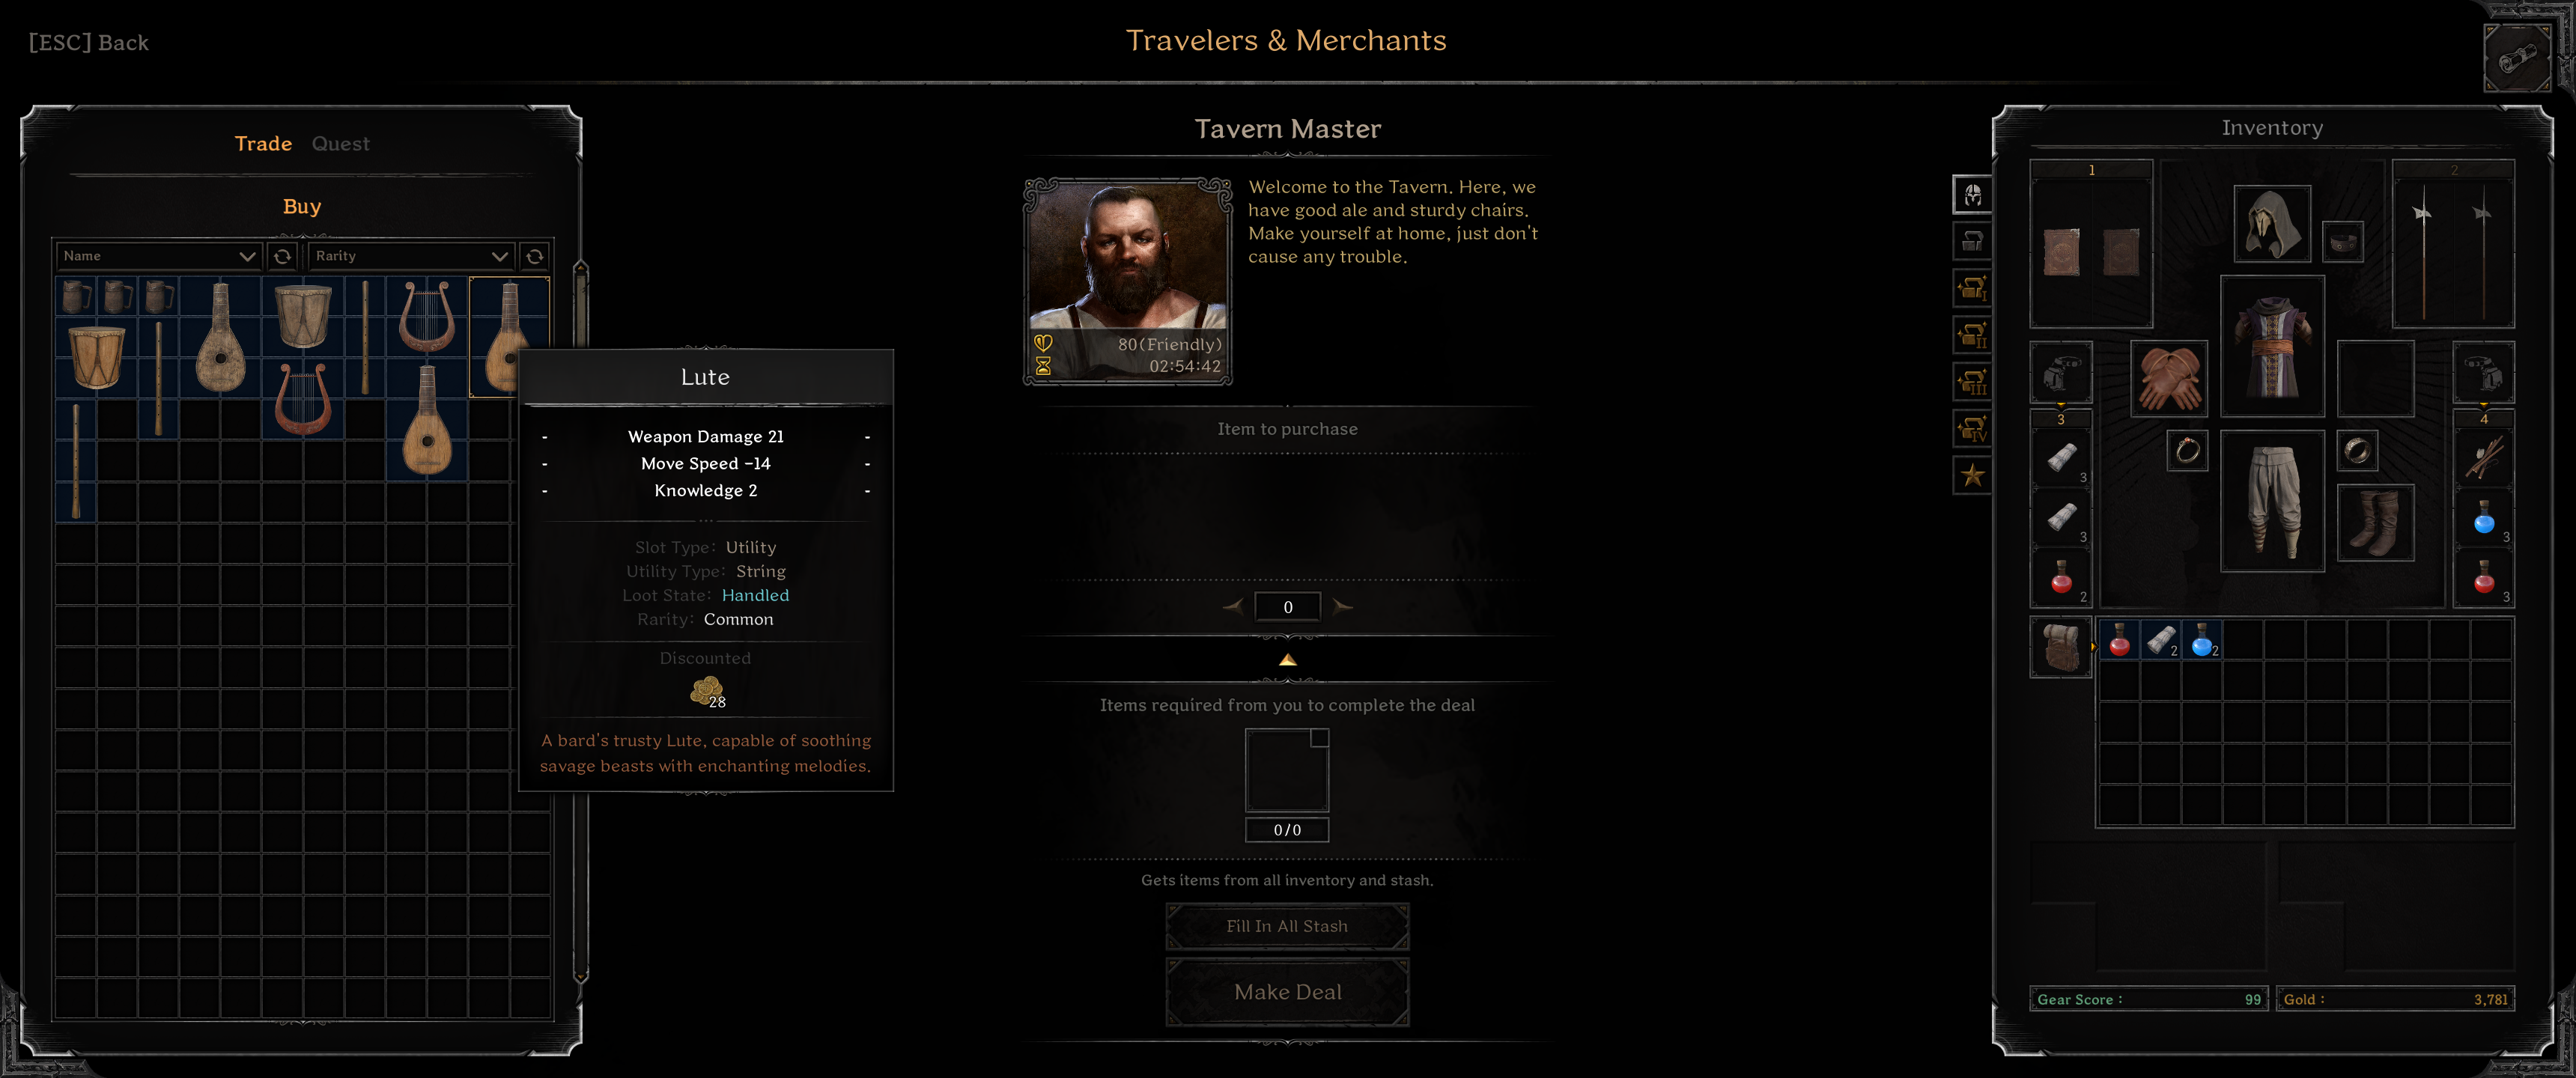Tooltip: (516, 347, 895, 794)
